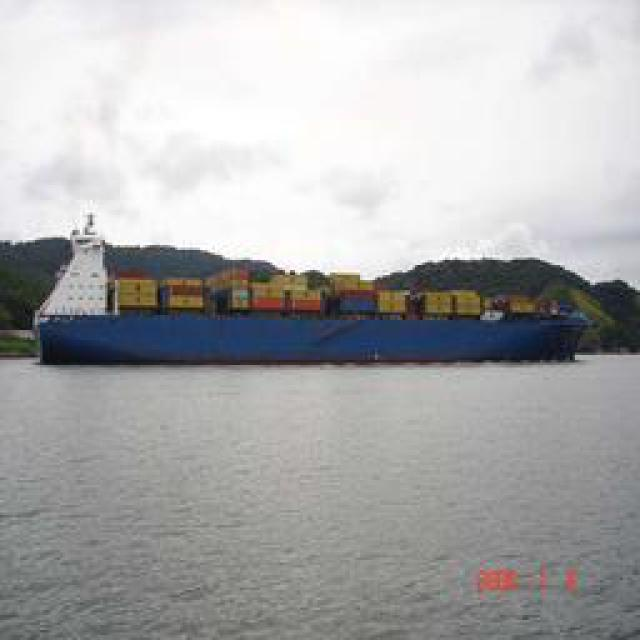Ship: (34, 244, 604, 367)
